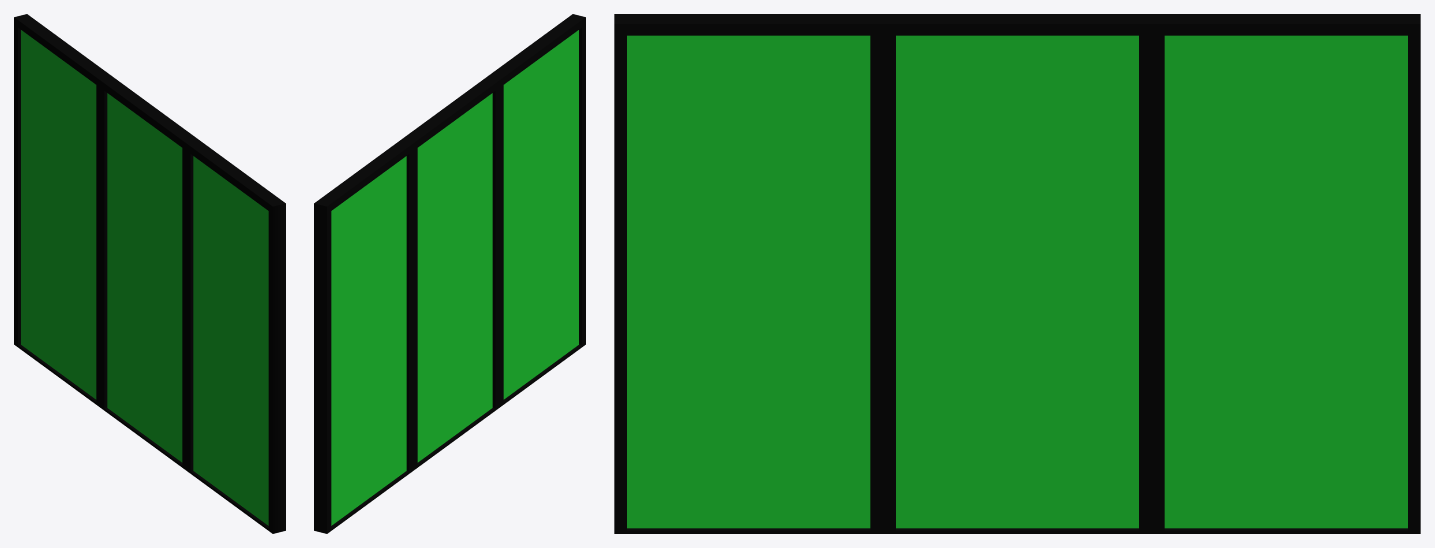
Rendered from Wall_Loby1.fbx.
3 views of the same model, side by side, from view 1: azimuth 30°, elevation 25°; view 2: azimuth 150°, elevation 25°; view 3: azimuth 270°, elevation 25° (orthographic). The views are drawn at different scales.
Parts seen in each view (by area): view 1: wall:wall_1; view 2: wall:wall_1; view 3: wall:wall_1.
Part boxes in pixels (x1,y1,x2,y2): wall:wall_1: (14, 14, 285, 533); wall:wall_1: (314, 14, 585, 533); wall:wall_1: (614, 14, 1420, 533).
Size of the model in its own units: 16.59 by 396 by 567.
